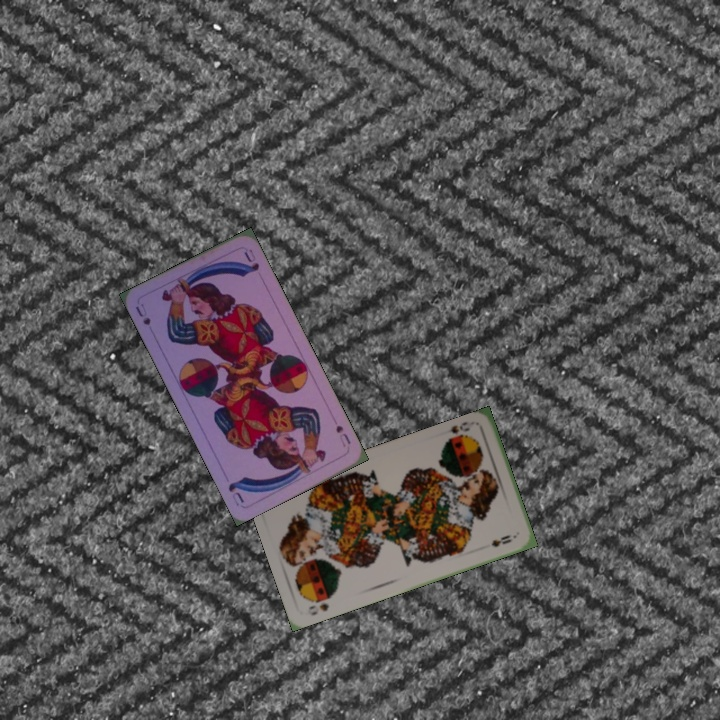SO: (438, 417, 472, 445), (305, 599, 331, 618)
SU: (131, 299, 153, 328), (332, 421, 354, 450)
